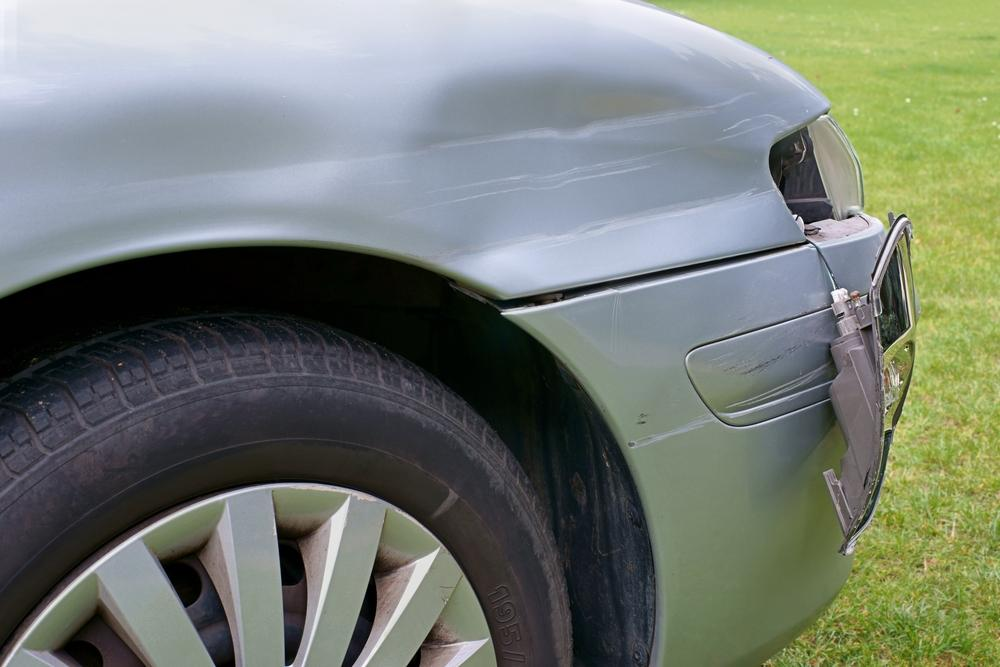dent: (49, 56, 762, 288)
scratch: (707, 338, 836, 421), (628, 408, 721, 450)
